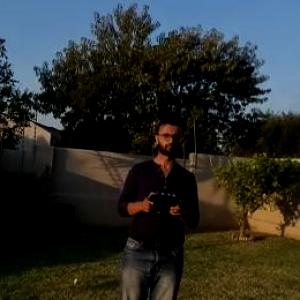follow: (111, 108, 208, 299)
